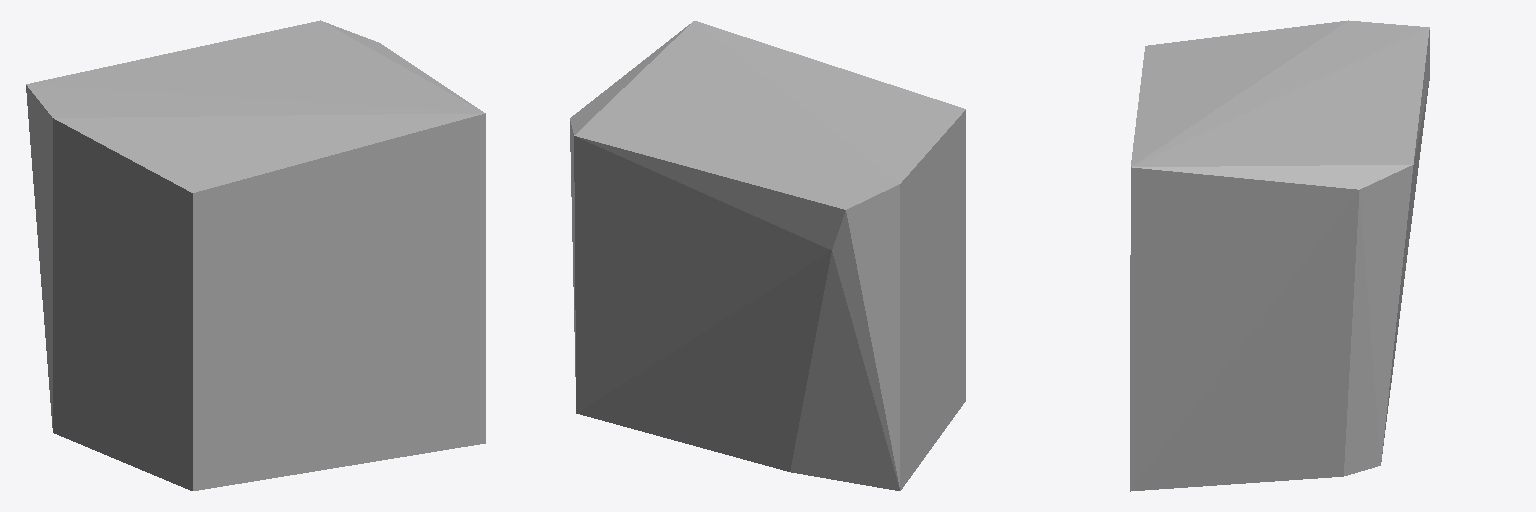
URDF robot description (root):
<?xml version='1.0' encoding='utf-8'?>
<robot name="root">
  <link name="link_001">
    <visual>
      <origin xyz="0 0 0" rpy="0 0 0" />
      <geometry>
        <mesh filename="7804ac7c1212295af93a072c8969b111309b3722e254f4aaf855d4b9194a8a46_scale_747.stl" scale="1.0000E+00 1.0000E+00 1.0000E+00" />
      </geometry>
      <material name="">
        <color rgba="7.50E-01 7.50E-01 7.50E-01 1" />
      </material>
    </visual>
    <collision>
      <origin xyz="0 0 0" rpy="0 0 0" />
      <geometry>
        <mesh filename="7804ac7c1212295af93a072c8969b111309b3722e254f4aaf855d4b9194a8a46_scale_747.stl" scale="1.0000E+00 1.0000E+00 1.0000E+00" />
      </geometry>
    </collision>
  </link>
</robot>

--- Facts derived from the render (not from the file) ---
3 views of the same robot in one strip: view 1: azimuth 30°, elevation 25°; view 2: azimuth 150°, elevation 25°; view 3: azimuth 270°, elevation 25° (orthographic).
Robot: root — 1 links, 0 joints (none); root link link_001; default pose: every joint at zero.
Links seen in each view (by area): view 1: link_001; view 2: link_001; view 3: link_001.
Link boxes in pixels (x1,y1,x2,y2): link_001: (26, 20, 485, 490); link_001: (570, 21, 965, 490); link_001: (1130, 20, 1429, 491).
Bounding box of the posed robot: 0.0847 × 0.0672 × 0.0802 m (x, y, z).
Meshes: 1 distinct files referenced, 1 mesh visuals loaded (1 binary STL).
